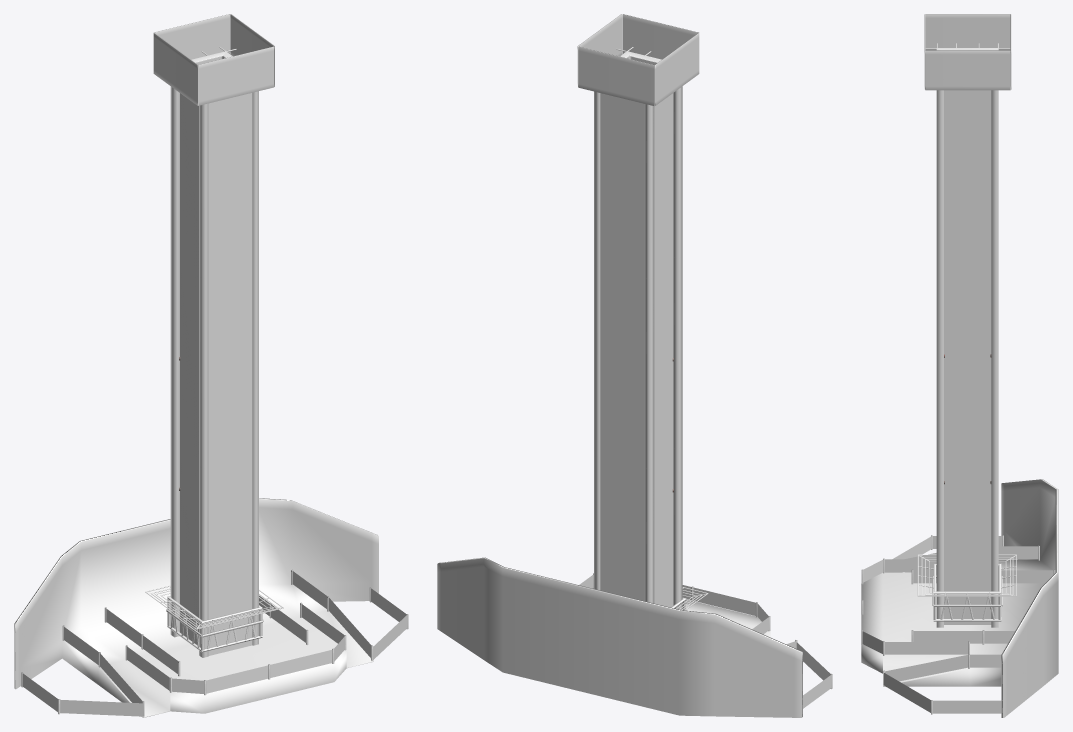
Rendered from freefall.fbx.
3 views of the same model, side by side, from view 1: azimuth 30°, elevation 25°; view 2: azimuth 150°, elevation 25°; view 3: azimuth 270°, elevation 25° (orthographic). The views are drawn at different scales.
Parts seen in each view (by area): view 1: mast, plattform, gondel; view 2: mast, plattform; view 3: mast, plattform, gondel.
Part boxes in pixels (bbox=[...]): mast: bbox=[153, 14, 274, 657]; plattform: bbox=[14, 498, 408, 717]; gondel: bbox=[145, 585, 283, 652]; mast: bbox=[577, 14, 699, 609]; plattform: bbox=[437, 557, 832, 717]; mast: bbox=[924, 14, 1011, 627]; plattform: bbox=[861, 479, 1058, 717]; gondel: bbox=[917, 554, 1016, 621].
Size of the model in its own units: 2071 by 3430 by 1003.
